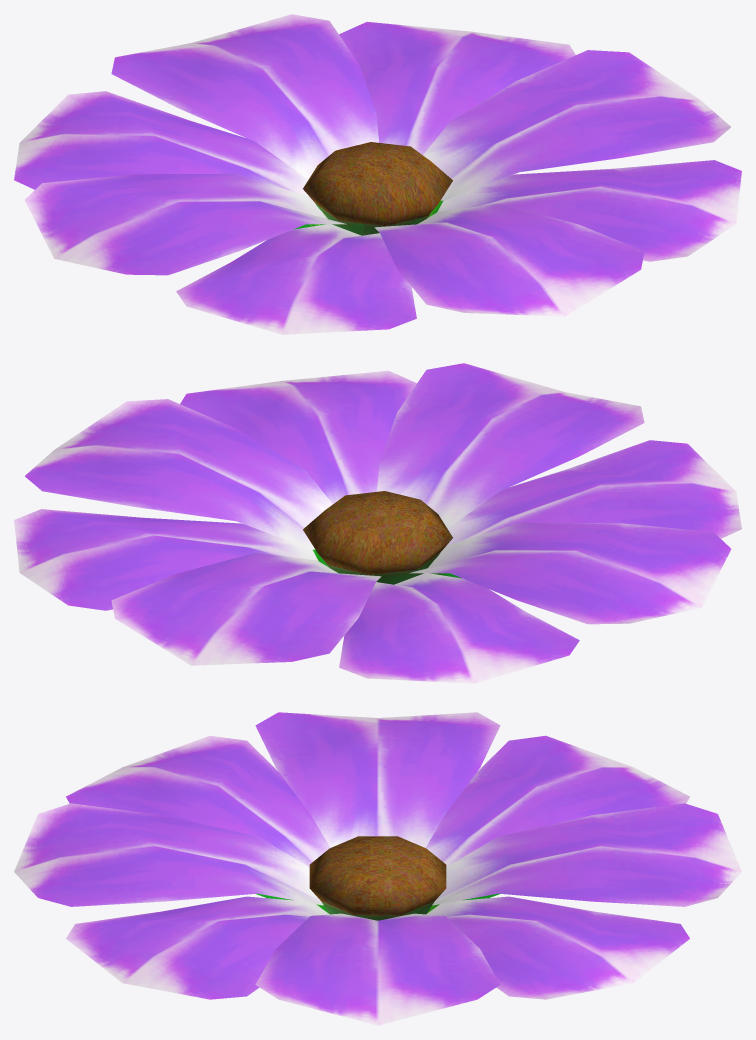
The model's file is flowerplatform.fbx.
3 renders of one model, top to bottom at view 1: azimuth 30°, elevation 25°; view 2: azimuth 150°, elevation 25°; view 3: azimuth 270°, elevation 25°, orthographic. The views are drawn at different scales.
Parts seen in each view (by area): view 1: m0; view 2: m0; view 3: m0.
Boxes of the visible parts, x1,y1,x2,y2 form: m0: [14, 14, 741, 334]; m0: [14, 363, 741, 683]; m0: [14, 712, 741, 1025].
Bounding box in the file's own units: 270 × 57.77 × 270.
